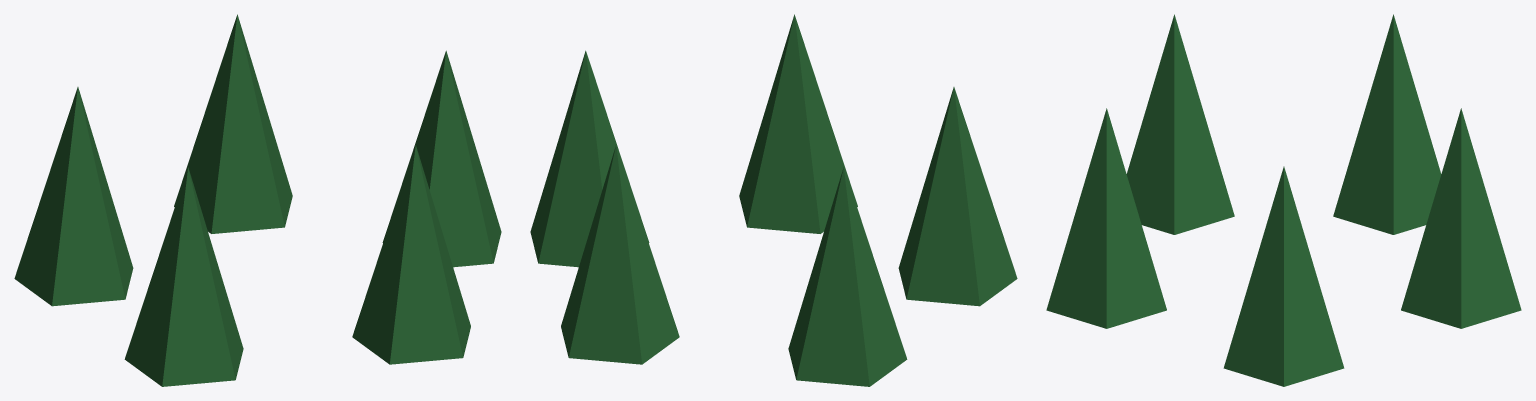
The model's file is fern.glb.
3 views of the same model, side by side, from view 1: azimuth 30°, elevation 25°; view 2: azimuth 150°, elevation 25°; view 3: azimuth 270°, elevation 25° (orthographic).
Visible parts, largest first — view 1: fern; view 2: fern; view 3: fern.
Boxes of the visible parts, box(x1,y1,x2,y2) form: fern: box(14, 14, 501, 386); fern: box(530, 14, 1017, 386); fern: box(1046, 14, 1521, 386).
Bounding box in the file's own units: 5.4 × 2.44 × 5.41.
